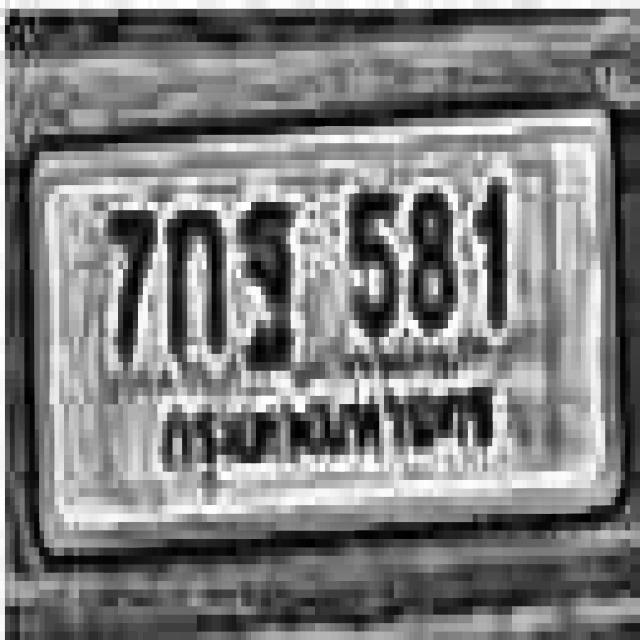license-plate: (24, 114, 626, 559)
